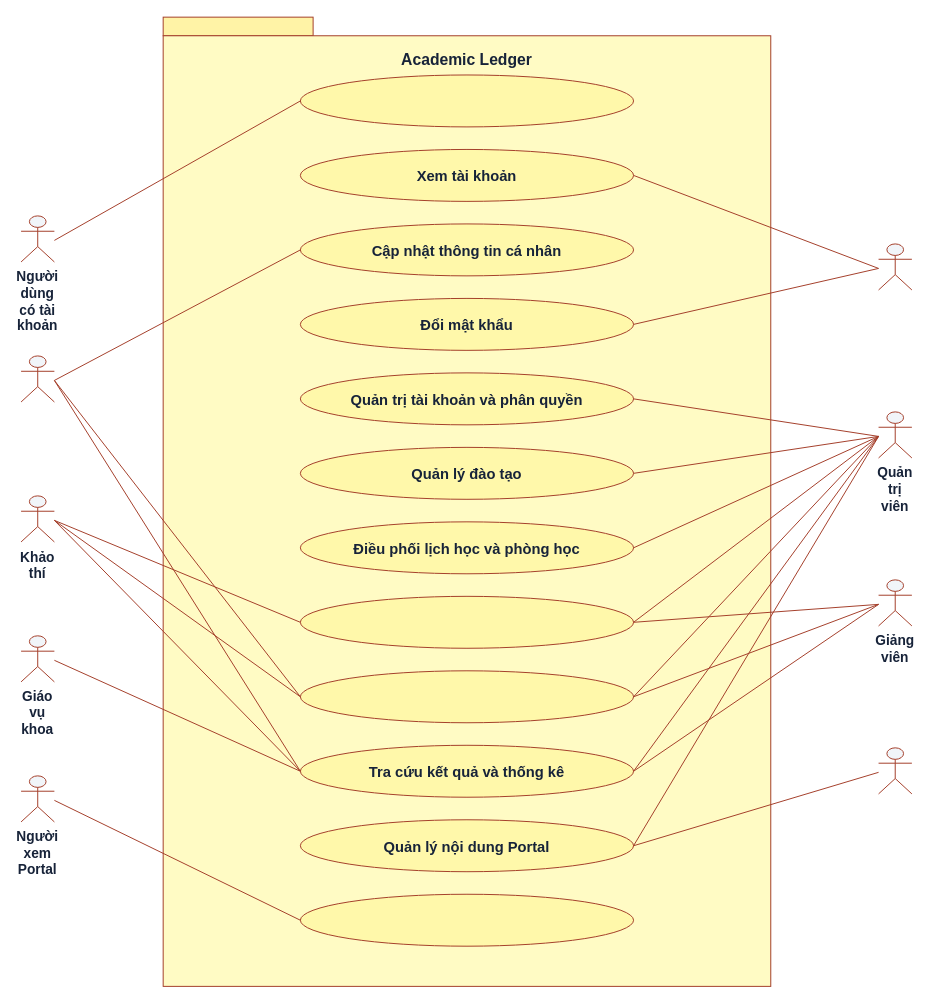
Image size: 933x1004. Some labels were removed from this diagram. Here are the shapes that lost their labels. From the top down, the centre of each, then its label:
the point at 466,100: Đăng nhập
the point at 895,266: Người dùng đã đăng nhập
the point at 37,378: Sinh viên
the point at 466,621: Quản lý điểm
the point at 466,696: Quản lý phúc khảo
the point at 895,770: Đào tạo
the point at 466,919: Xem thông tin Portal
